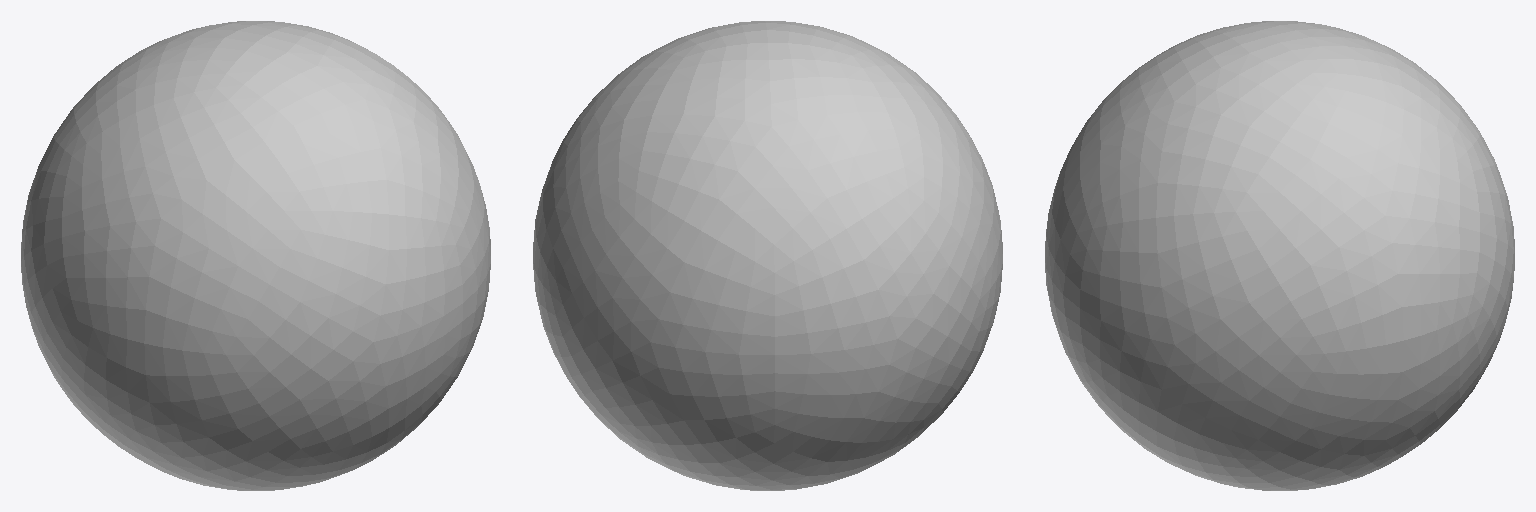
File: Planet2.obj
The picture shows the model from 3 angles: view 1: azimuth 30°, elevation 25°; view 2: azimuth 150°, elevation 25°; view 3: azimuth 270°, elevation 25°; orthographic projection.
Parts seen in each view (by area): view 1: pPlatonic1; view 2: pPlatonic1; view 3: pPlatonic1.
Part boxes in pixels (x1,y1,x2,y2): pPlatonic1: (21,21,490,490); pPlatonic1: (533,21,1002,490); pPlatonic1: (1045,21,1514,490).
Size of the model in its own units: 2 by 2 by 2.